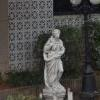Statue: (29, 26, 89, 100)
